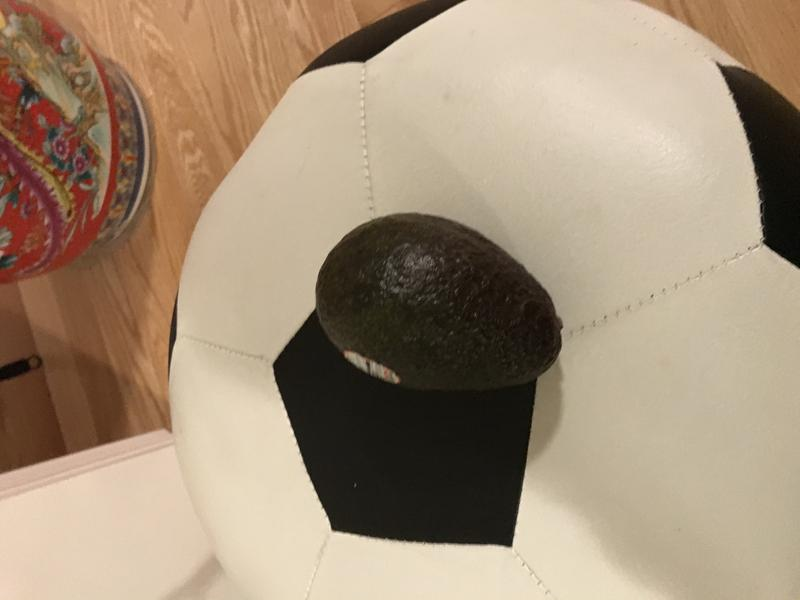avacado: (311, 209, 571, 397)
